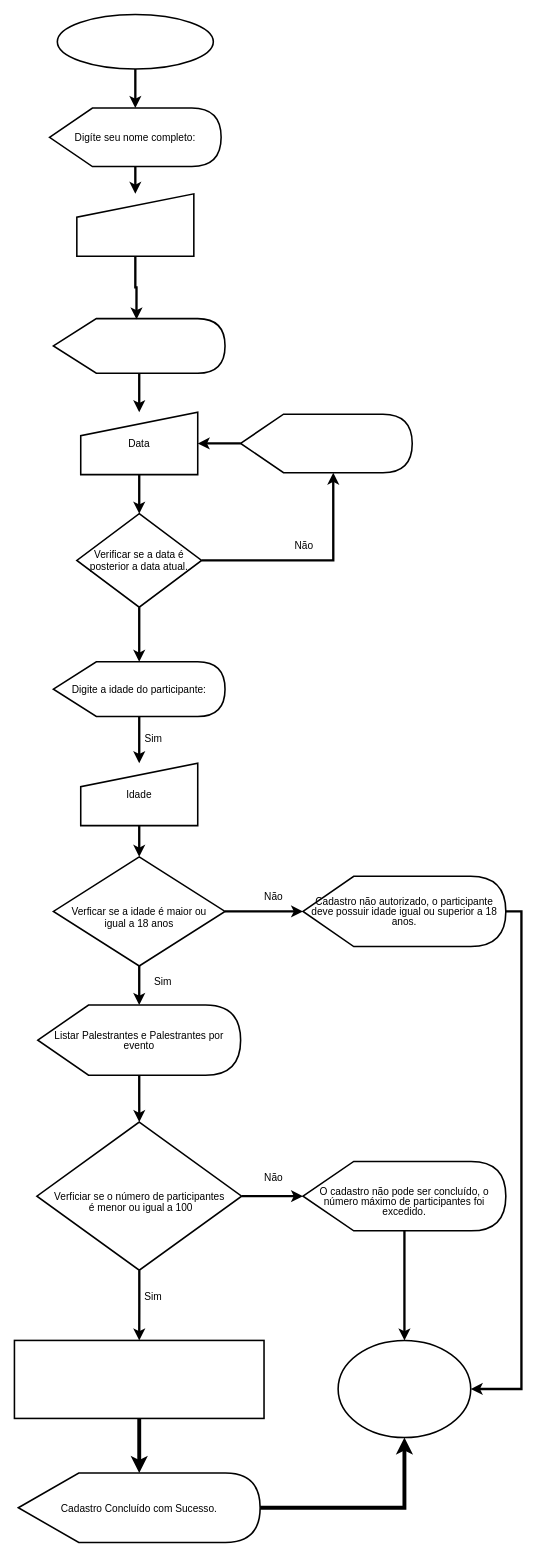
This 542x1556 diagram has some shape labels left out. Each missing label, with the centre of its shape:
"Cadastrar: Data, Idade, Nome" belongs at pixel 138 1379.
"CadastrarEvento" belongs at pixel 135 41.
"Data Inválida, Digite uma Data posterior a data de hoje." belongs at pixel 326 443.
"Digite a Data desejada:" belongs at pixel 138 345.
"Fim" belongs at pixel 404 1388.
"Nome" belongs at pixel 135 225.
